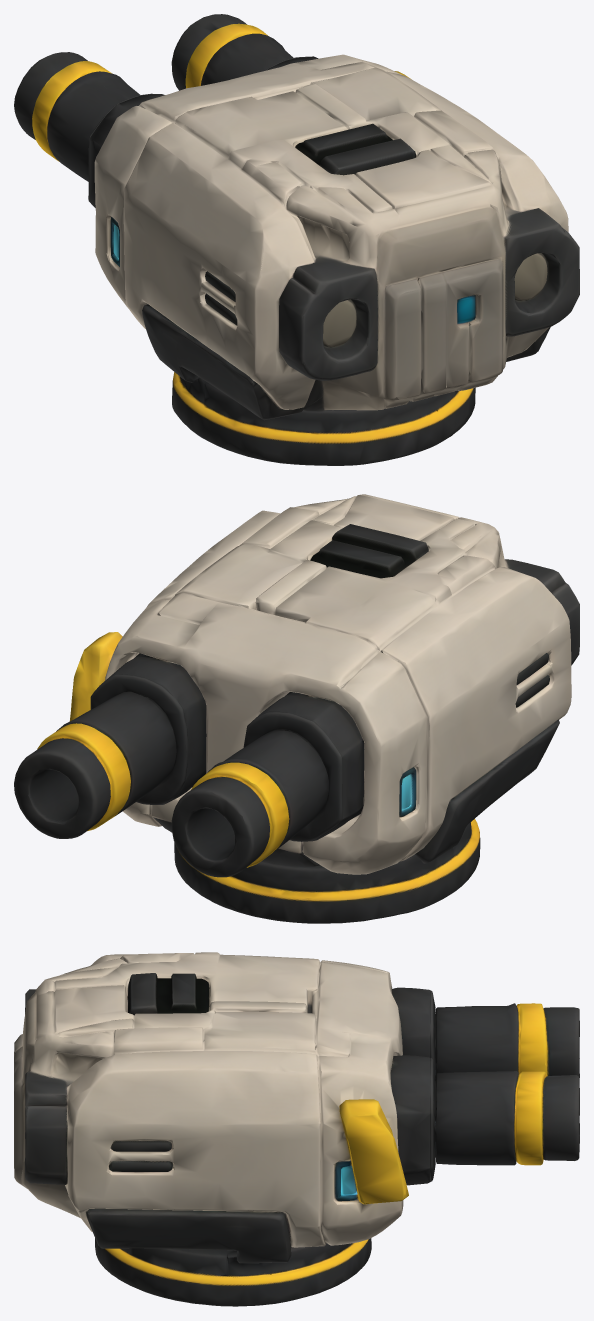
The picture shows the model from 3 angles, top to bottom: view 1: azimuth 30°, elevation 25°; view 2: azimuth 150°, elevation 25°; view 3: azimuth 270°, elevation 25°; orthographic projection. The views are drawn at different scales.
Visible parts, largest first — view 1: T02Armor.001, BarrelLeftMesh.001, BarrelRightMesh.001; view 2: T02Armor.001, BarrelRightMesh.001, BarrelLeftMesh.001; view 3: T02Armor.001, BarrelRightMesh.001, BarrelLeftMesh.001.
Part boxes in pixels (box(x1,y1,x2,y2)): T02Armor.001: box(89, 54, 579, 465); BarrelLeftMesh.001: box(14, 52, 161, 200); BarrelRightMesh.001: box(171, 14, 313, 90); T02Armor.001: box(69, 494, 579, 923); BarrelRightMesh.001: box(14, 674, 188, 838); BarrelLeftMesh.001: box(171, 711, 342, 877); T02Armor.001: box(14, 952, 429, 1306); BarrelRightMesh.001: box(430, 1057, 579, 1181); BarrelLeftMesh.001: box(430, 990, 579, 1079).
Size of the model in its own units: 1.03 by 0.8827 by 1.75.
2 materials, 1 textured.
